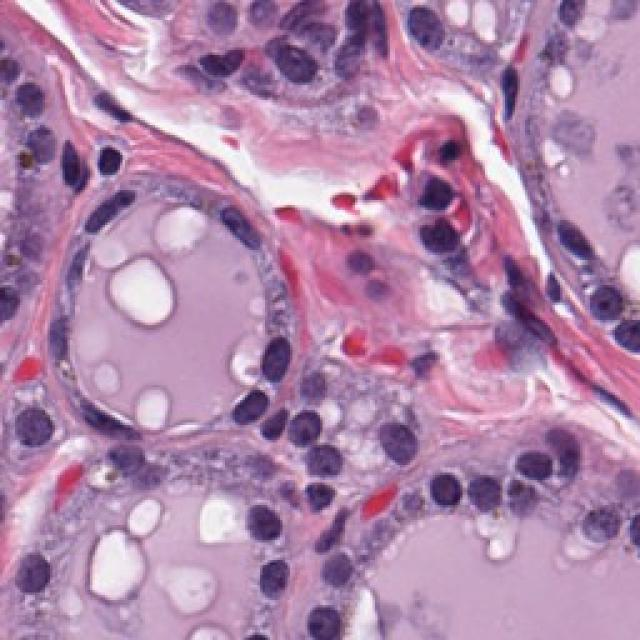normal: (1, 391, 74, 464), (222, 487, 296, 558), (58, 181, 132, 251), (416, 443, 468, 533), (222, 174, 274, 258), (279, 594, 371, 640), (245, 320, 306, 389), (281, 392, 341, 458), (577, 270, 631, 341), (238, 551, 298, 614), (229, 378, 282, 445), (300, 423, 345, 497), (3, 70, 53, 132), (310, 550, 362, 602), (511, 444, 560, 496)
